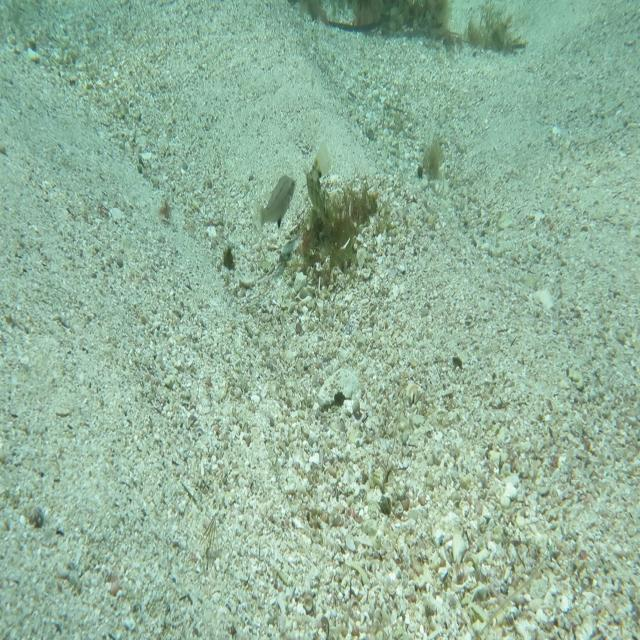ROLL: (300, 136, 339, 231)
female: (249, 172, 299, 236)
nest: (276, 160, 380, 296)
